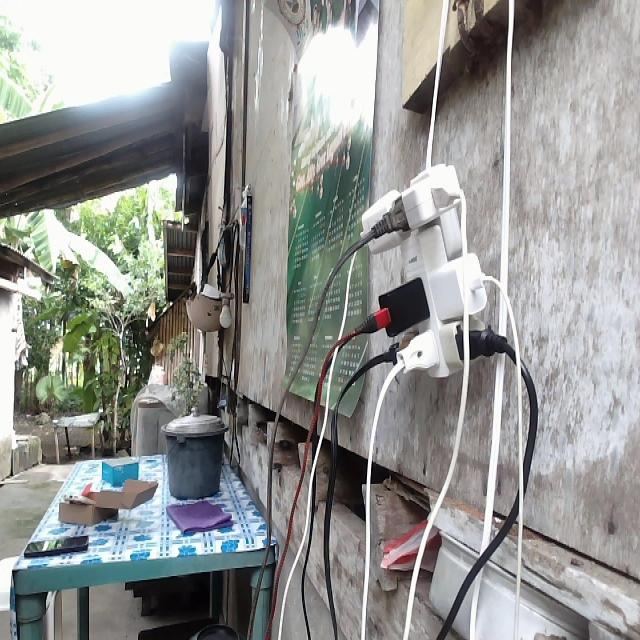-: (357, 163, 507, 376)
